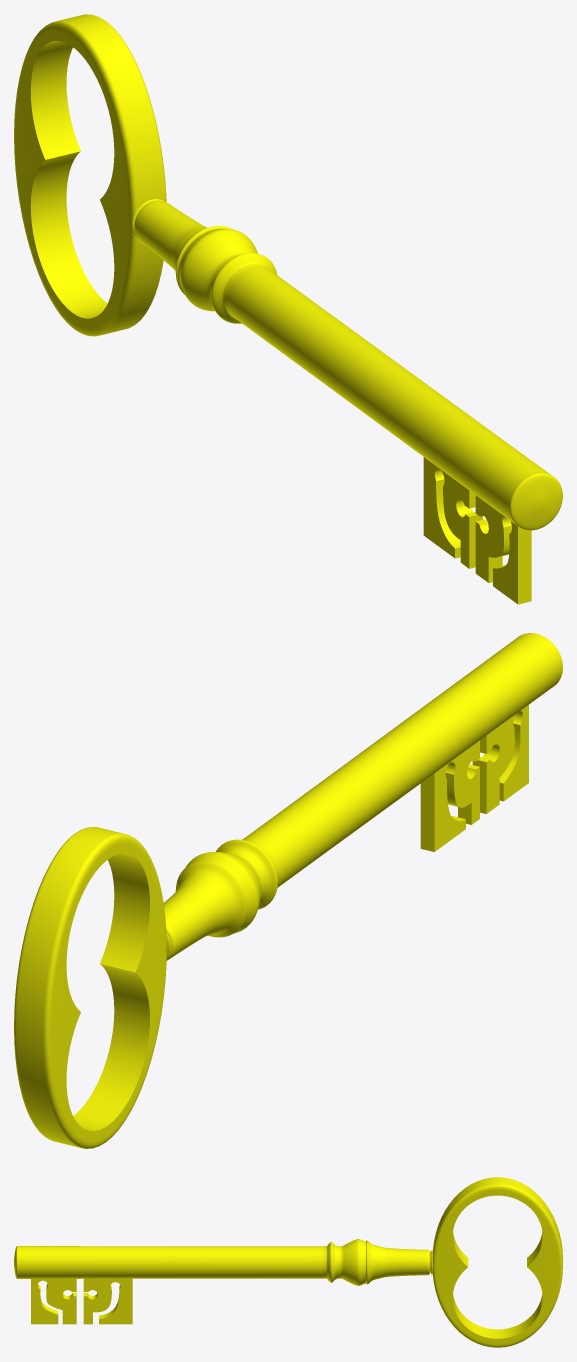
Rendered from yellowKey.gltf.
3 views of the same model, one above another, from view 1: azimuth 30°, elevation 25°; view 2: azimuth 150°, elevation 25°; view 3: azimuth 270°, elevation 25° (orthographic). The views are drawn at different scales.
Parts seen in each view (by area): view 1: Line001_Material #30_0, Cylinder004_Material #30_0, Box007_Material #30_0; view 2: Cylinder004_Material #30_0, Line001_Material #30_0, Box007_Material #30_0; view 3: Line001_Material #30_0, Cylinder004_Material #30_0, Box007_Material #30_0.
Part boxes in pixels (box(x1,y1,x2,y2)): Line001_Material #30_0: box(132, 199, 562, 530); Cylinder004_Material #30_0: box(14, 14, 166, 336); Box007_Material #30_0: box(423, 457, 531, 604); Cylinder004_Material #30_0: box(14, 827, 166, 1148); Line001_Material #30_0: box(163, 633, 562, 960); Box007_Material #30_0: box(420, 705, 528, 851); Line001_Material #30_0: box(14, 1239, 432, 1285); Cylinder004_Material #30_0: box(432, 1177, 562, 1347); Box007_Material #30_0: box(31, 1278, 132, 1324).
Size of the model in its own units: 5.49 by 21.07 by 64.24.
